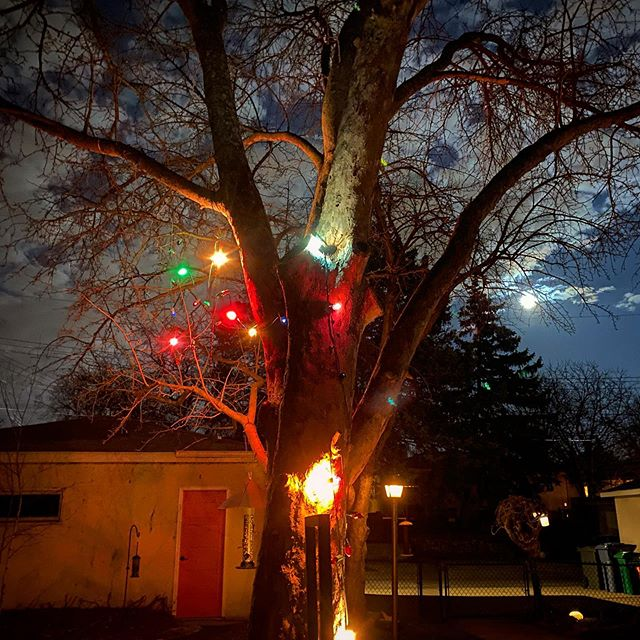building: (1, 413, 291, 628)
light pole: (369, 473, 411, 640)
trash can: (574, 540, 601, 596), (598, 539, 625, 595), (613, 543, 640, 599)
tree: (15, 1, 640, 637)
